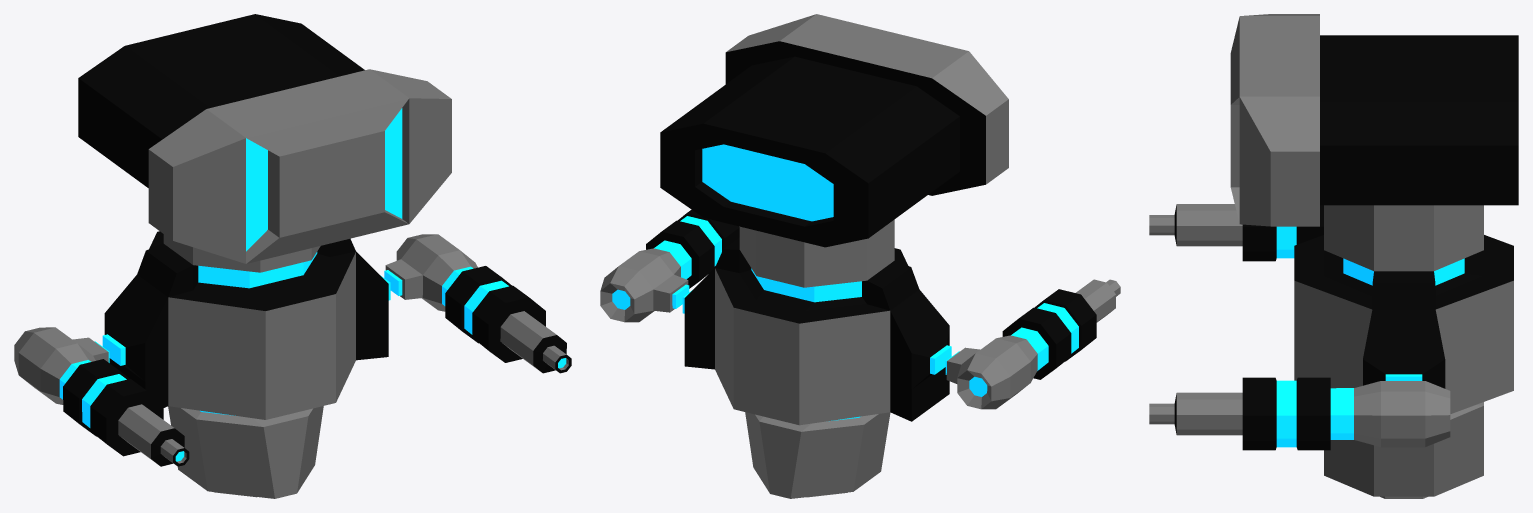
File: MachineGunEnemy.fbx
The picture shows the model from 3 angles, left to right: view 1: azimuth 30°, elevation 25°; view 2: azimuth 150°, elevation 25°; view 3: azimuth 270°, elevation 25°; orthographic projection. The views are drawn at different scales.
Visible parts, largest first — view 1: Head, Body, GunL, GunR; view 2: Head, Body, GunR, GunL; view 3: Head, Body, GunL, GunR.
Boxes of the visible parts, box(x1,y1,x2,y2) form: Head: box(78, 14, 451, 263); Body: box(102, 231, 390, 498); GunL: box(384, 234, 571, 373); GunR: box(14, 327, 189, 466); Head: box(660, 14, 1008, 247); Body: box(682, 219, 951, 498); GunR: box(945, 279, 1120, 409); GunL: box(600, 209, 739, 322); Head: box(1230, 14, 1518, 226); Body: box(1294, 205, 1513, 498); GunL: box(1149, 377, 1450, 450); GunR: box(1149, 204, 1323, 261).
Bounding box in the file's own units: 244 × 221 × 176.
